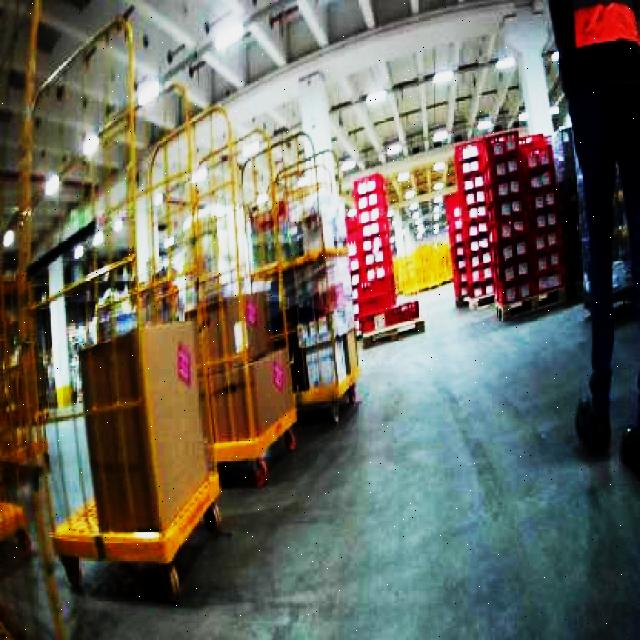ground: (2, 271, 640, 638)
pallet: (35, 82, 362, 603), (52, 314, 225, 603), (446, 128, 572, 320), (189, 289, 300, 486), (252, 245, 362, 425), (346, 171, 426, 348), (583, 171, 640, 322), (448, 135, 497, 308), (358, 297, 426, 348)
